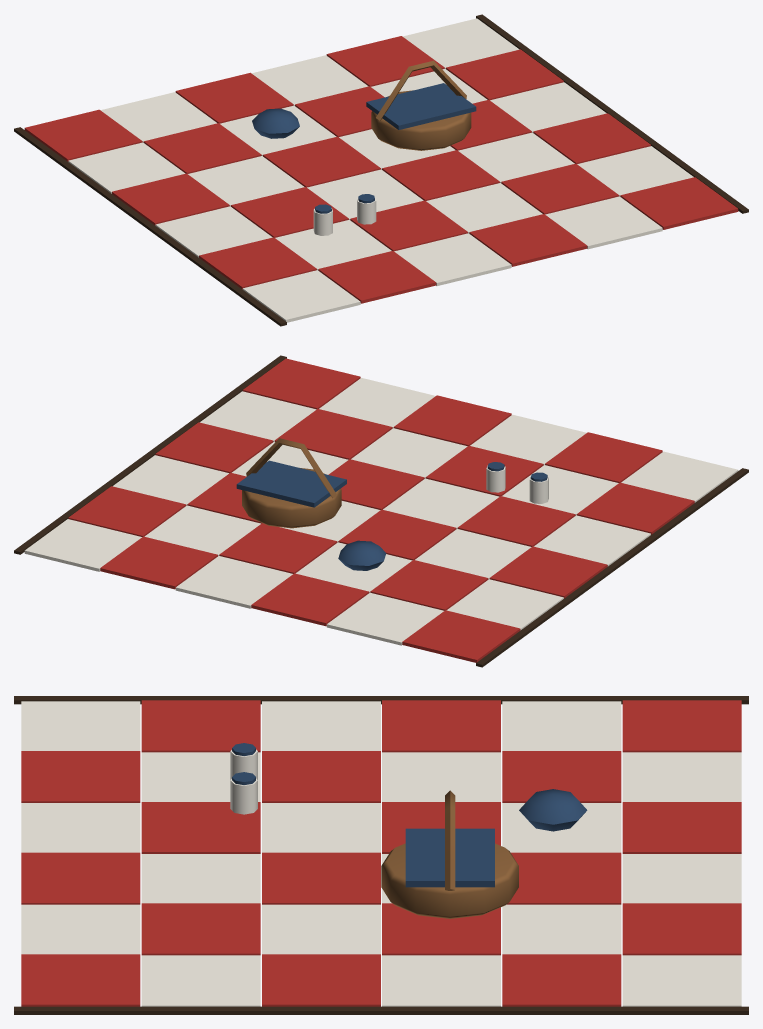
The model's file is picnic_blanket.glb.
3 renders of one model, top to bottom at view 1: azimuth 30°, elevation 25°; view 2: azimuth 150°, elevation 25°; view 3: azimuth 270°, elevation 25°, orthographic. The views are drawn at different scales.
Parts seen in each view (by area): view 1: picnic_blanket; view 2: picnic_blanket; view 3: picnic_blanket.
Part boxes in pixels (left/top/right/bottom): picnic_blanket: left=14, top=14, right=748, bottom=326; picnic_blanket: left=14, top=355, right=748, bottom=667; picnic_blanket: left=14, top=696, right=748, bottom=1014.
Bounding box in the file's own units: 2.17 × 0.3302 × 2.14.
